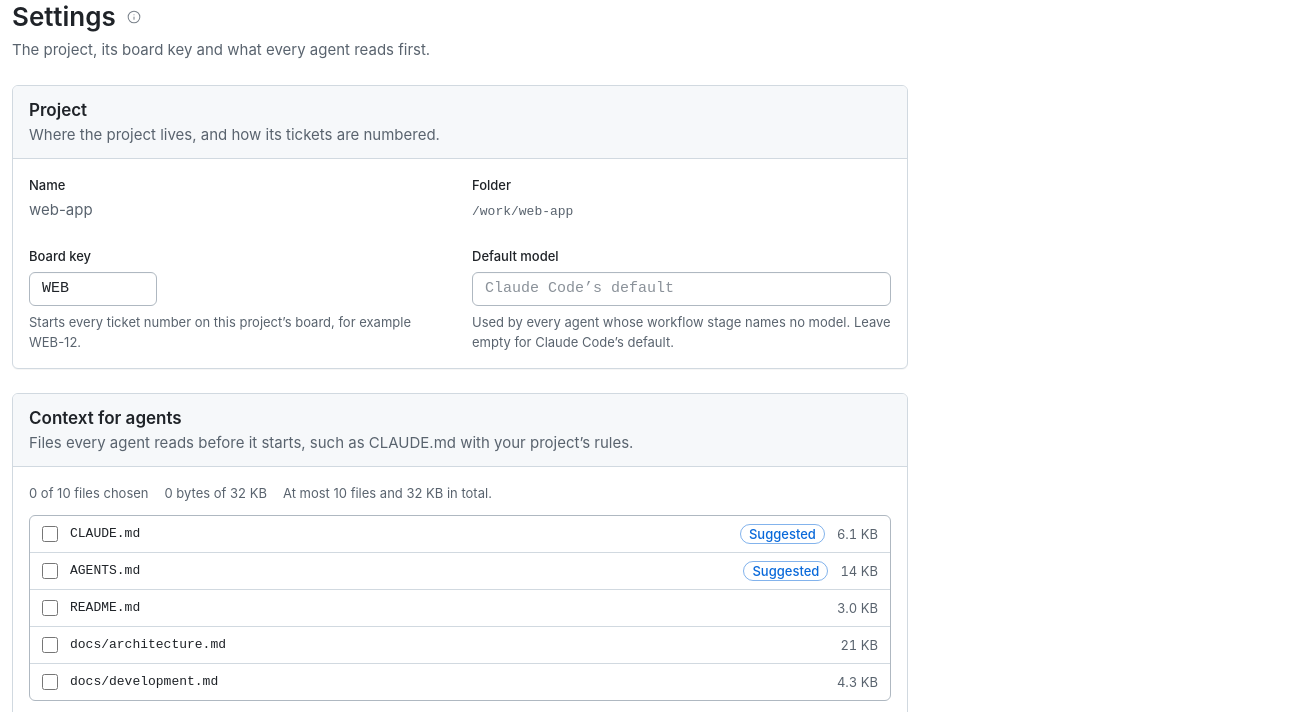
Test: Project settings (#/p/:id/settings, docs/redesign/README.md §4.7) › saves edits with PUT, keeping the limits as saved, and clears the unsaved note
Click the checkbox labelled "README.md" at (50,608), box top-left (42, 600), bottom-right (58, 616)
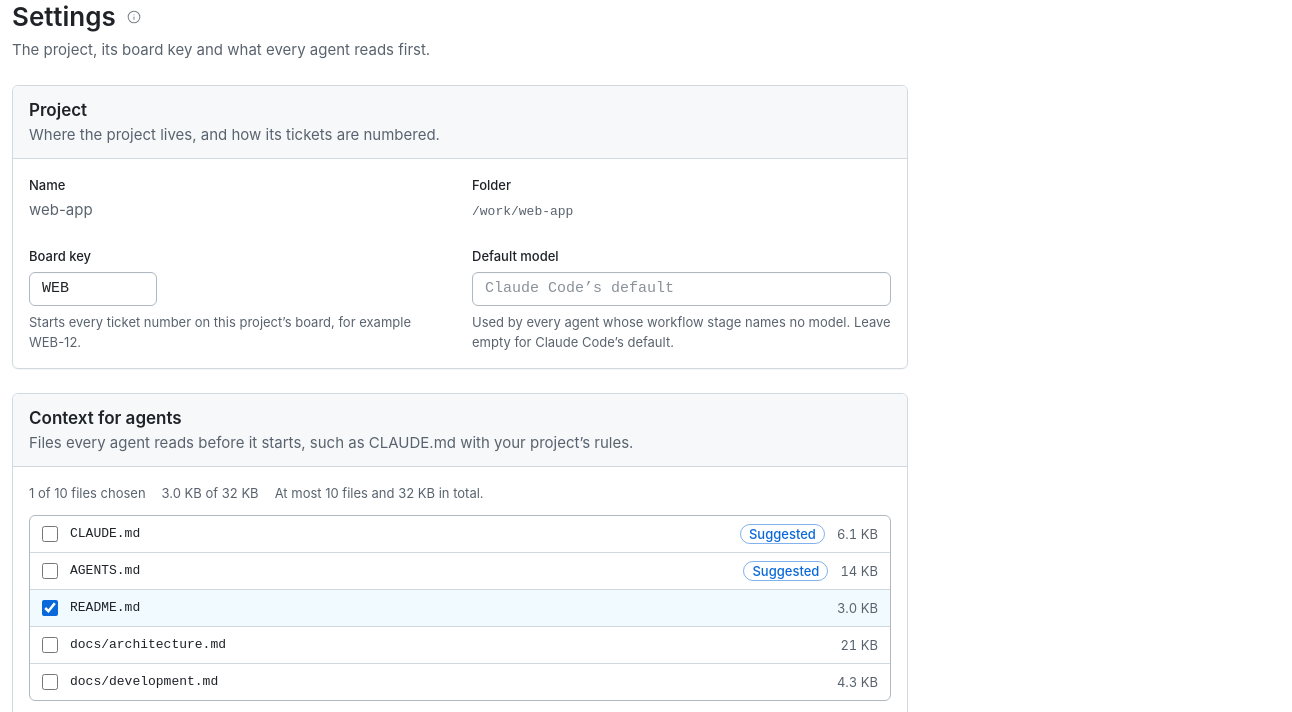
Type "app" into the field labelled "Board key" at (93,289), box top-left (29, 272), bottom-right (157, 306)
(page scrolled)
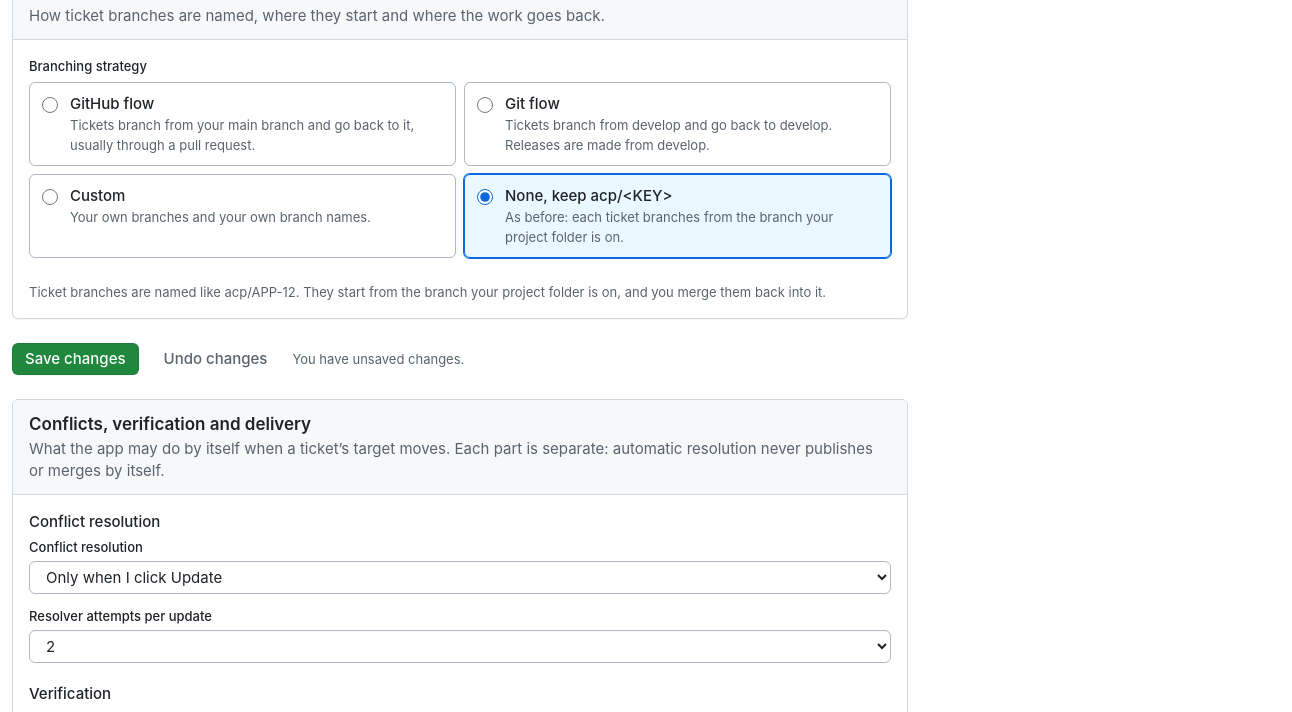
Now the text "You have unsaved changes." is shown, box top-left (292, 349), bottom-right (464, 369)
Click the button "Save changes" at (75,359), box top-left (12, 343), bottom-right (138, 375)
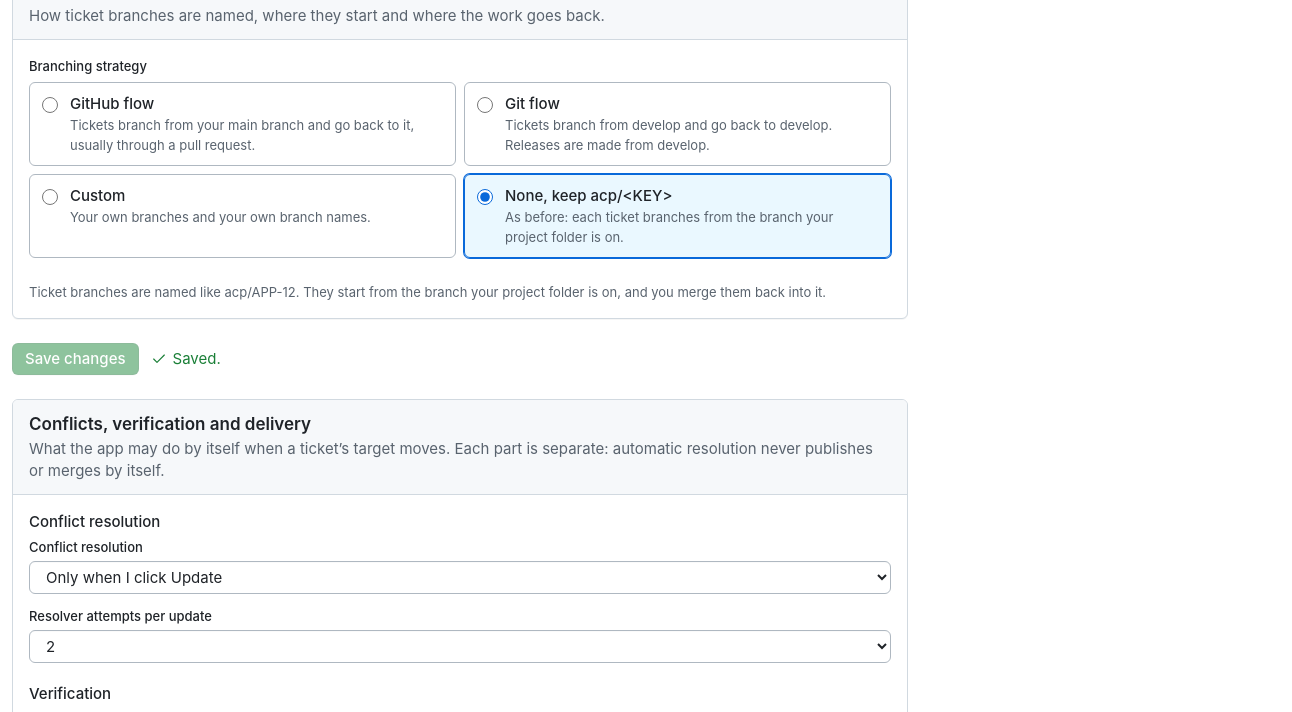
Now the text "Saved." is shown, box top-left (150, 348), bottom-right (221, 370)
